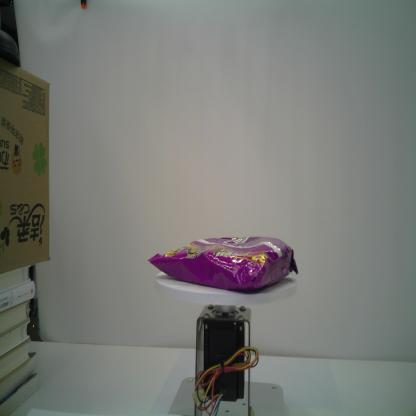Instant Noodles: (145, 234, 299, 296)
